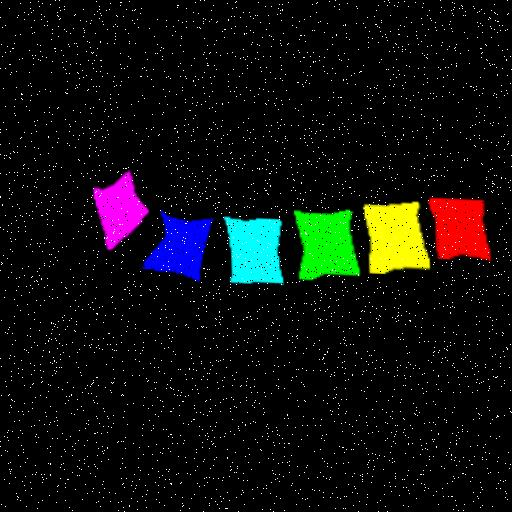L1: (427, 195, 487, 257)
L2: (361, 199, 427, 271)
L3: (293, 208, 356, 277)
L4: (223, 217, 280, 282)
L5: (140, 211, 209, 280)
S1: (91, 171, 146, 249)
